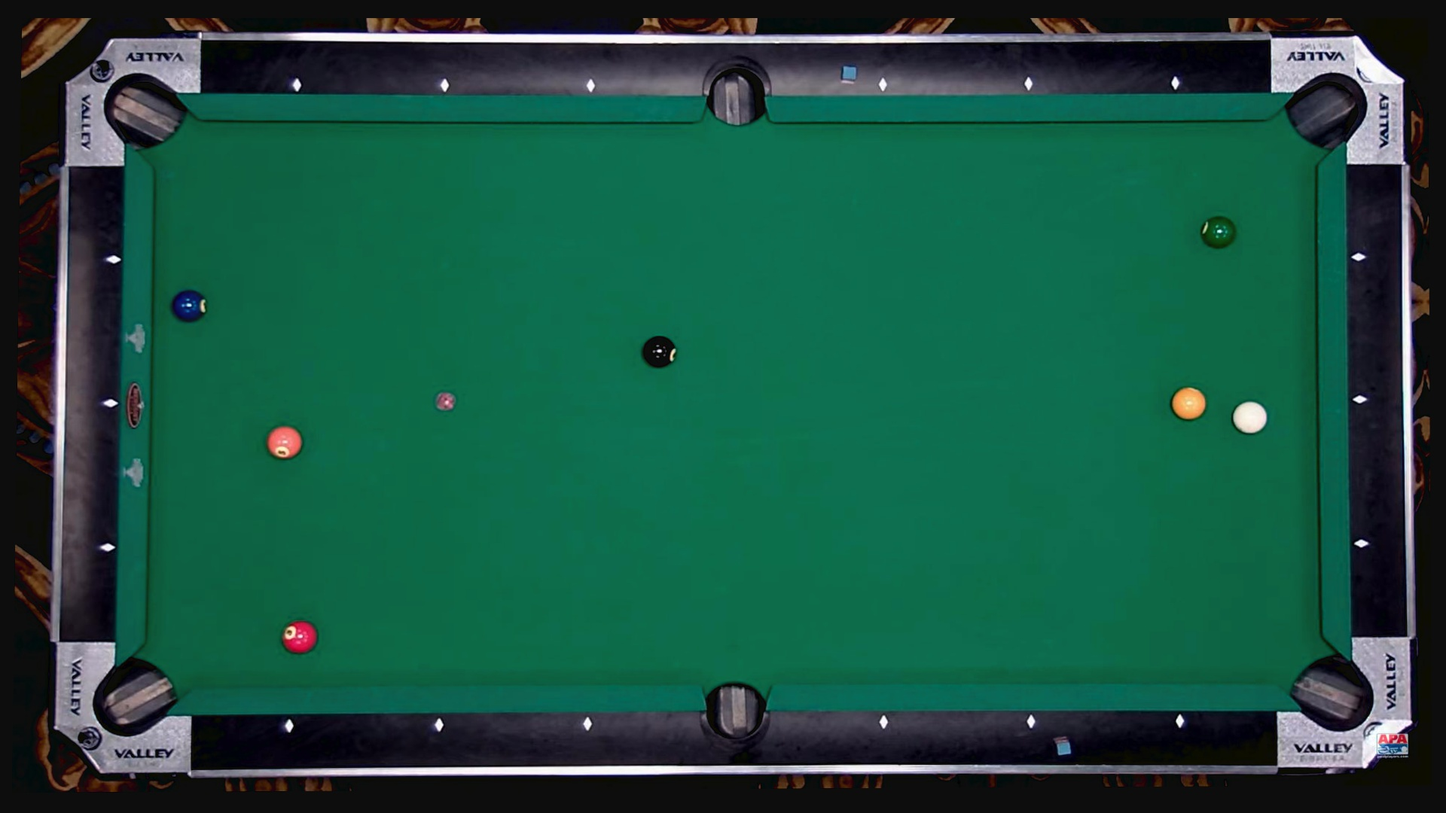Black: (105, 398, 116, 409), (1025, 717, 1036, 728), (108, 255, 119, 265), (292, 80, 302, 91), (440, 80, 450, 91), (878, 80, 889, 90), (1170, 78, 1180, 89), (1353, 252, 1363, 263), (1354, 395, 1365, 405), (1357, 539, 1367, 550), (582, 719, 593, 729), (433, 719, 443, 730), (102, 543, 112, 553), (586, 81, 596, 91), (1024, 79, 1034, 89), (1175, 717, 1185, 727), (878, 718, 888, 728), (283, 720, 293, 730)
Cue: (1199, 216, 1237, 250), (1171, 386, 1206, 421), (171, 289, 207, 323), (282, 620, 317, 654), (267, 426, 302, 459)
Solid: (643, 335, 677, 368)
Stripe: (1232, 400, 1268, 435)
